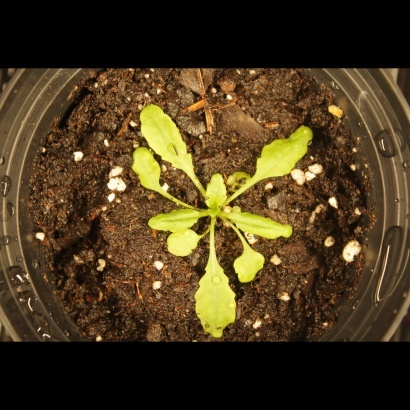leaf: (137, 93, 199, 177), (239, 124, 320, 188), (190, 260, 242, 338), (225, 207, 299, 247), (124, 143, 166, 196), (143, 203, 202, 233), (157, 230, 205, 265), (232, 246, 269, 284), (203, 171, 231, 219), (227, 163, 253, 193)
